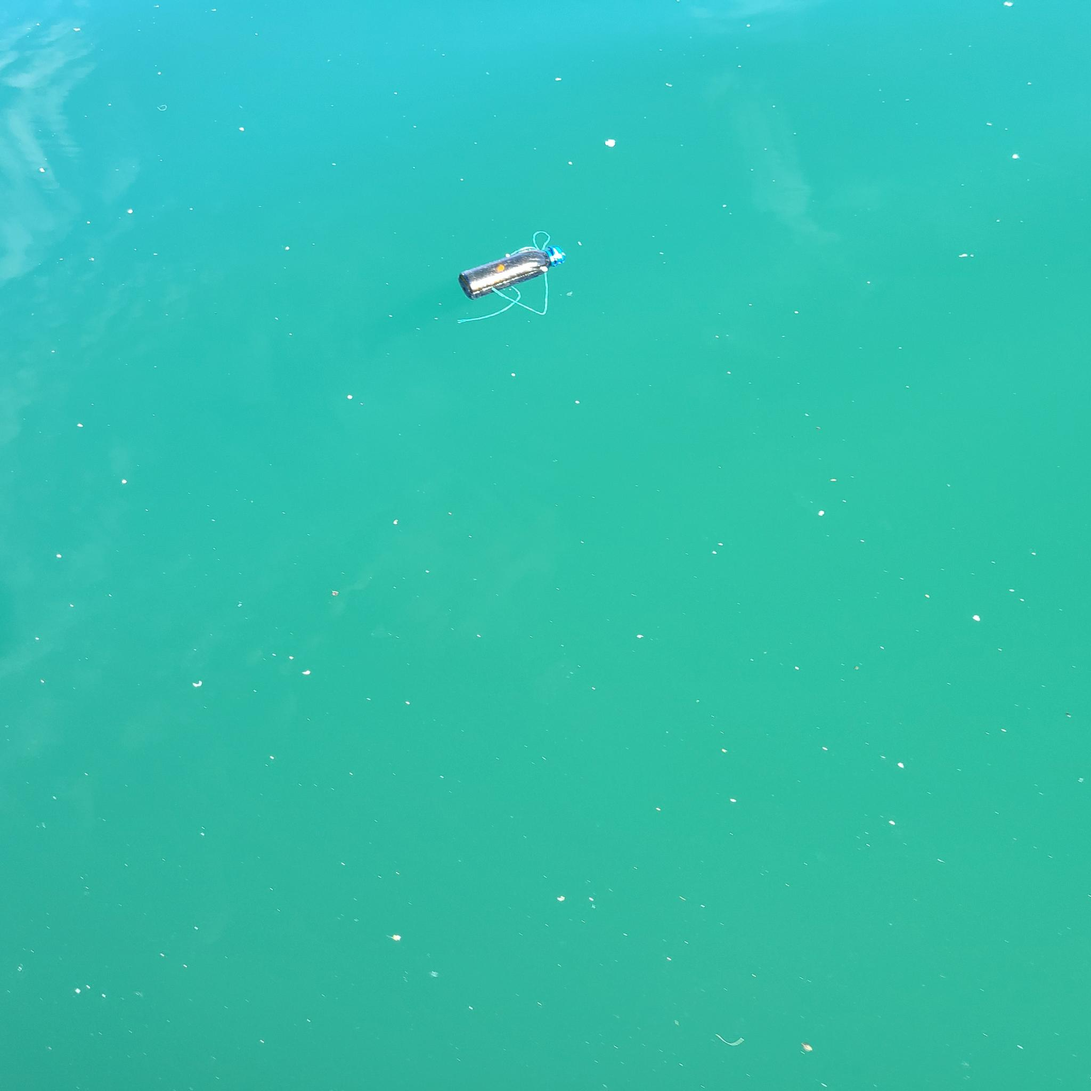sampah_terapung: (458, 246, 566, 300)
